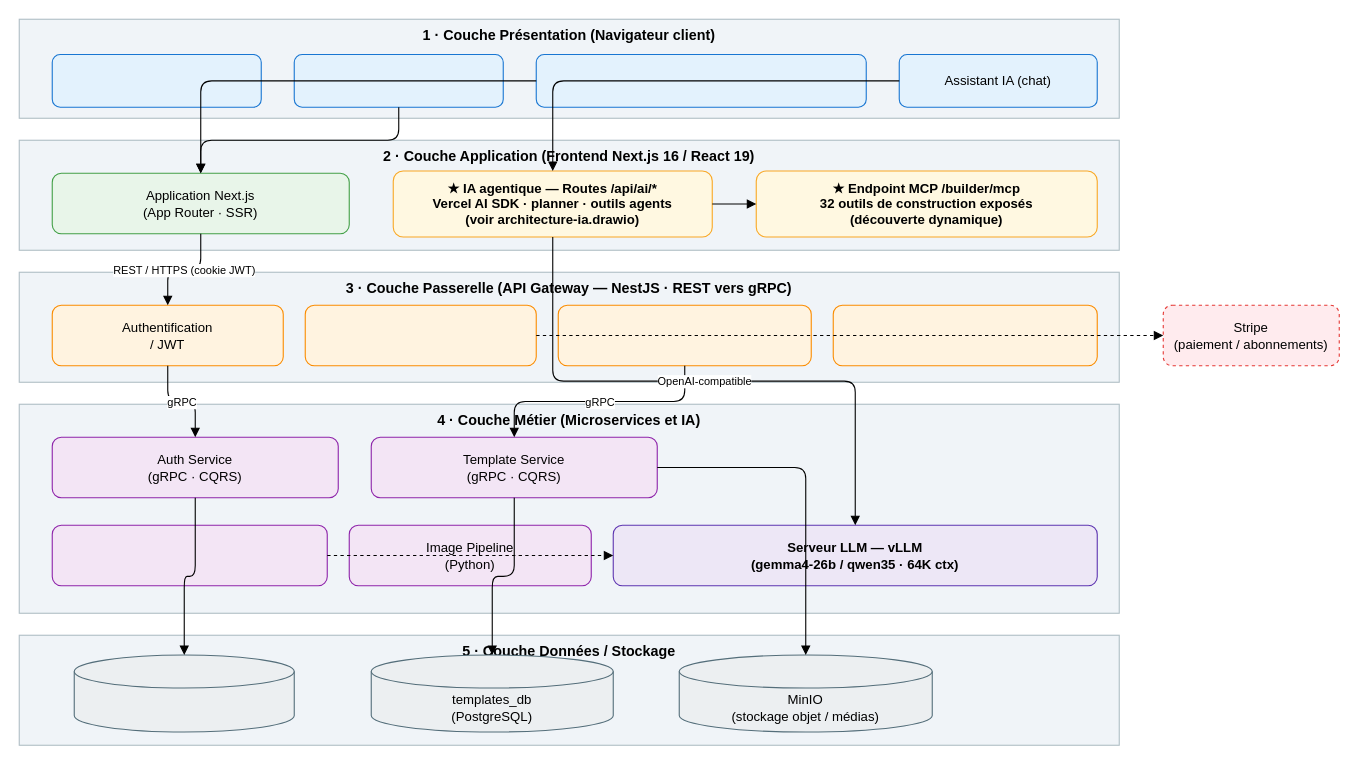
The diagram is 1359 pixels wide and 765 high, and some of its shapes have lost their labels. Here are the shapes that lost their labels. From the top down, the centre of each, then its label:
At point (156, 80): "Site Marketing".
At point (398, 80): "Tableau de bord".
At point (700, 80): "Éditeurs (email · facture · contrat · SMS · RCS)".
At point (420, 335): "Facturation / Stripe".
At point (684, 335): "Contrôle des quotas (plans / limites)".
At point (964, 335): "Intégrations / Clés API".
At point (189, 555): "AI Template Service (Python)".
At point (183, 693): "auth_db (PostgreSQL)".
